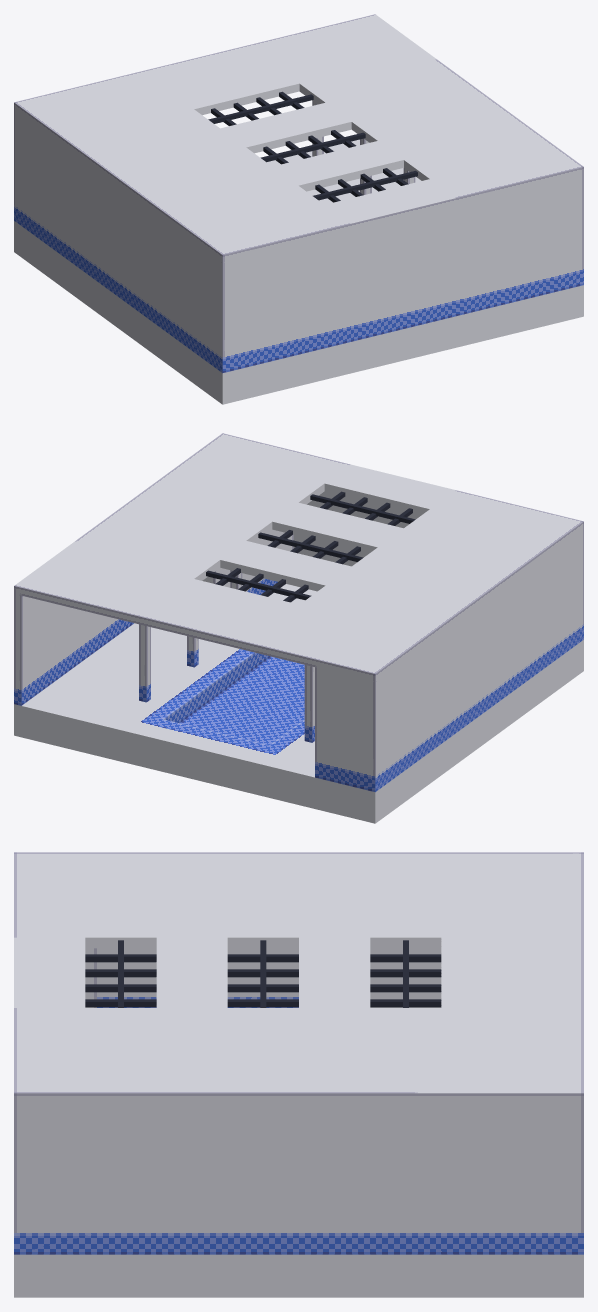
File: Piscina_new.gltf
The picture shows the model from 3 angles, top to bottom: view 1: azimuth 30°, elevation 25°; view 2: azimuth 150°, elevation 25°; view 3: azimuth 270°, elevation 25°; orthographic projection. The views are drawn at different scales.
Visible parts, largest first — view 1: Ceiling, Walls, Ground, LampGrid1, LampGrid3, LampGrid2; view 2: Ceiling, Ground, Walls, LampGrid2, LampGrid3, LampGrid1; view 3: Ceiling, Walls, Ground, LampGrid1, LampGrid2, LampGrid3.
Boxes of the visible parts, <box> form: Ceiling: <box>14,14,583,262</box>; Walls: <box>14,101,583,373</box>; Ground: <box>14,139,583,404</box>; LampGrid1: <box>260,130,365,164</box>; LampGrid3: <box>208,91,313,125</box>; LampGrid2: <box>313,168,417,202</box>; Ceiling: <box>14,433,583,681</box>; Ground: <box>14,584,583,823</box>; Walls: <box>14,491,583,792</box>; LampGrid2: <box>310,491,415,525</box>; LampGrid3: <box>206,568,311,602</box>; LampGrid1: <box>258,530,363,564</box>; Ceiling: <box>14,852,583,1103</box>; Walls: <box>14,948,583,1254</box>; Ground: <box>14,1254,583,1297</box>; LampGrid1: <box>227,940,298,1007</box>; LampGrid2: <box>85,940,156,1007</box>; LampGrid3: <box>370,940,441,1007</box>.
Bounding box in the file's own units: 3 × 1.19 × 3.
1 material, 1 textured.
